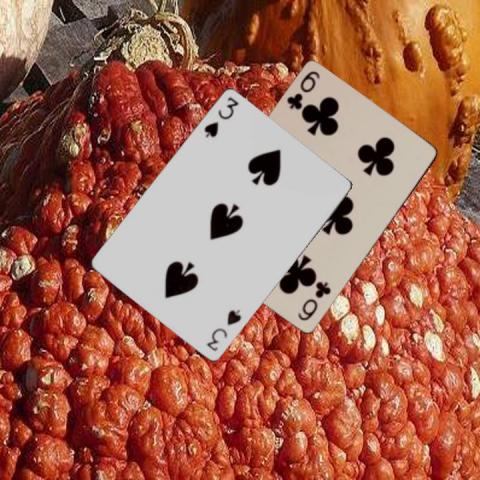3s: (203, 307, 243, 353), (201, 94, 240, 140)
6c: (284, 68, 322, 112), (294, 279, 332, 322)
